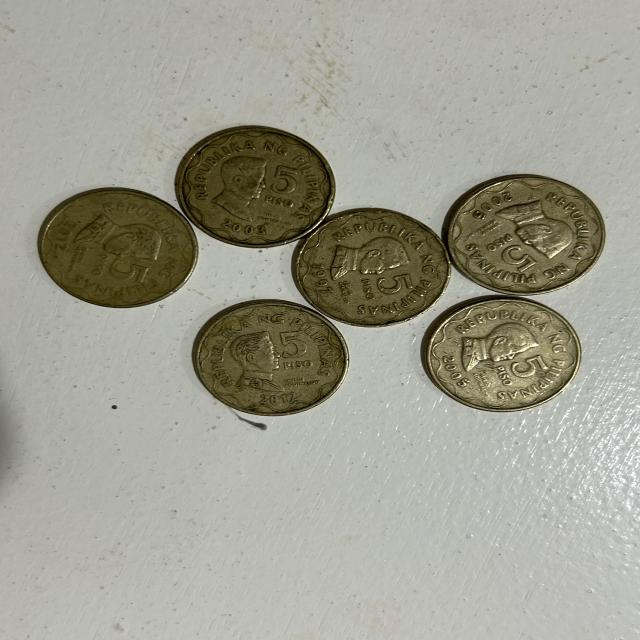5_Old_Front: (490, 353, 565, 393), (482, 230, 543, 277), (273, 328, 320, 376), (261, 160, 307, 208), (84, 249, 147, 282), (360, 266, 411, 302)
